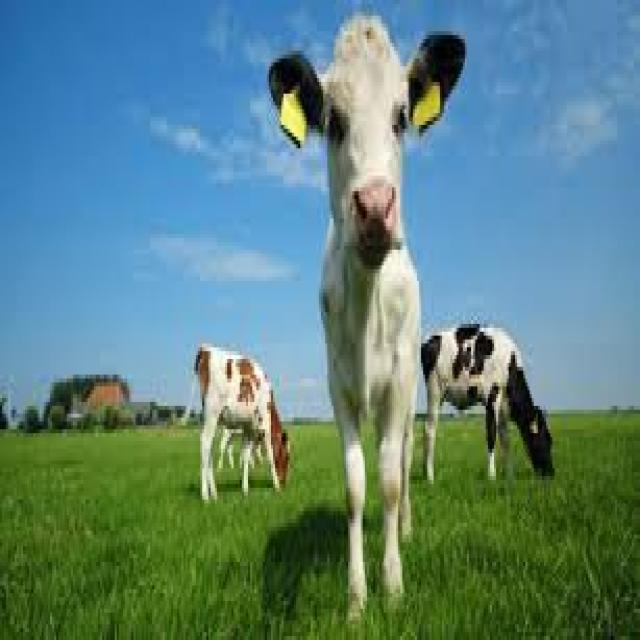cow: (316, 37, 447, 362), (198, 355, 313, 528)
